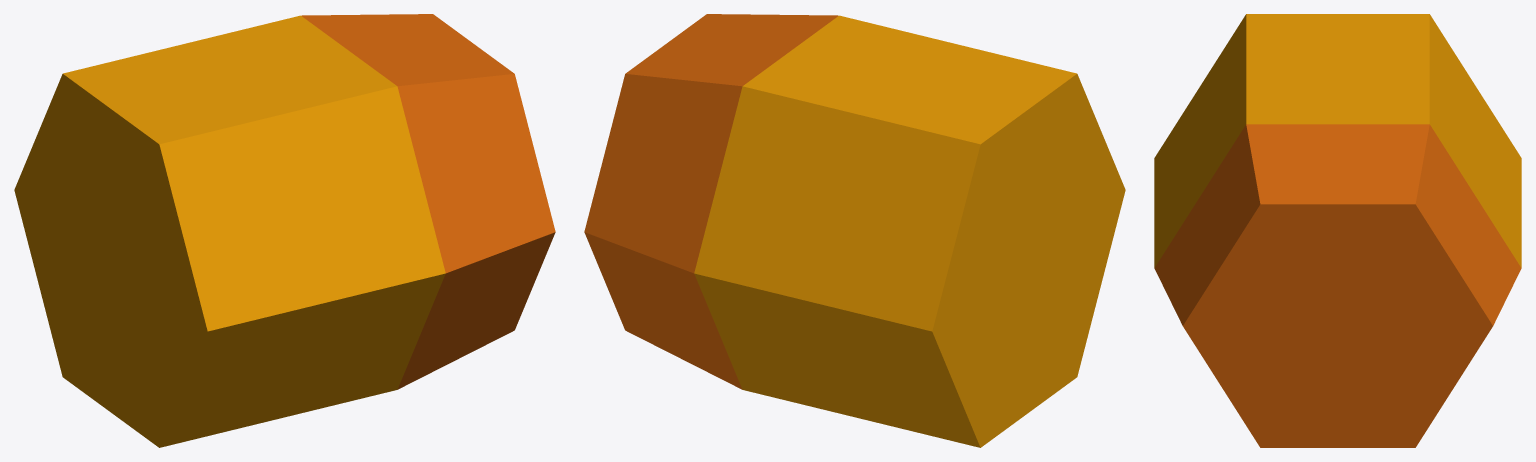
The model's file is shooter-game-bullet.fbx.
3 renders of one model, left to right at view 1: azimuth 30°, elevation 25°; view 2: azimuth 150°, elevation 25°; view 3: azimuth 270°, elevation 25°, orthographic. The views are drawn at different scales.
Parts seen in each view (by area): view 1: Bullet; view 2: Bullet; view 3: Bullet.
Boxes of the visible parts, <box> form: Bullet: <box>14,14,555,447</box>; Bullet: <box>584,14,1125,447</box>; Bullet: <box>1154,14,1521,447</box>.
Size of the model in its own units: 13 by 10.39 by 12.
